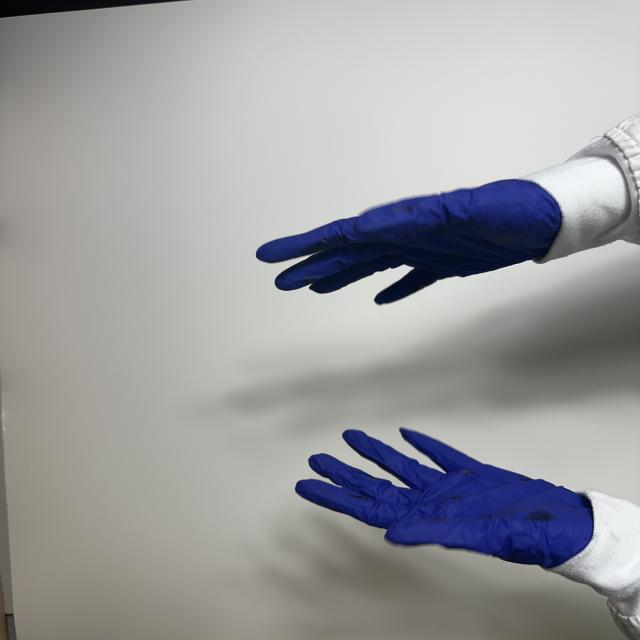gloves_contaminated: (296, 429, 594, 568), (257, 180, 561, 304)
